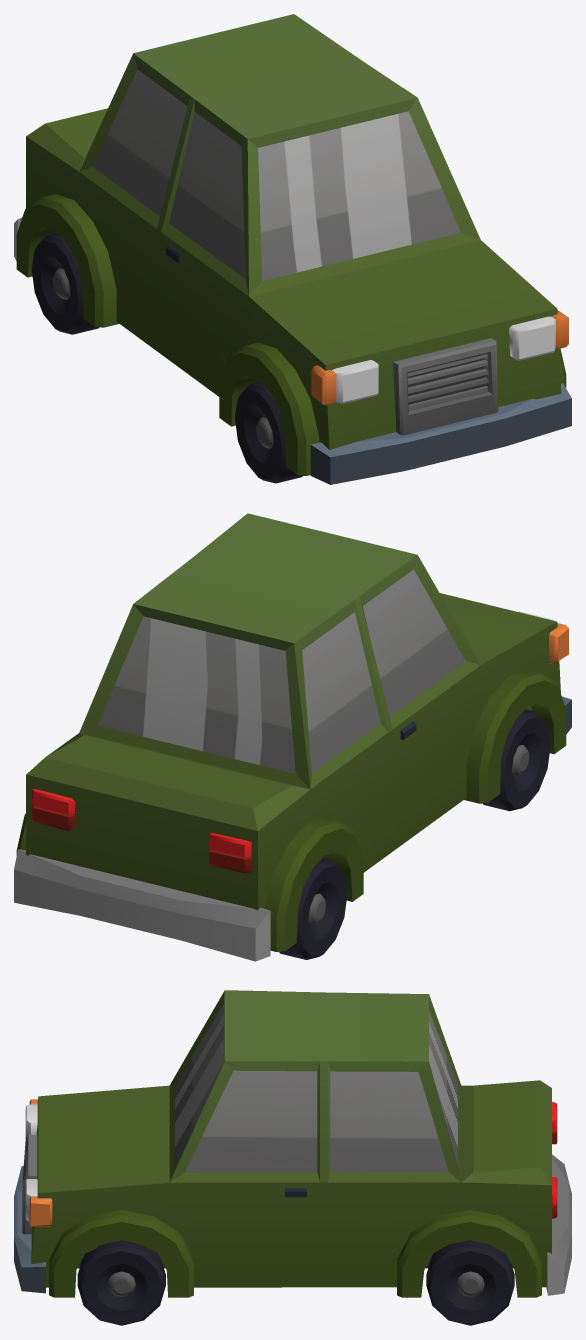
Rendered from Car_2_16.fbx.
The picture shows the model from 3 angles, top to bottom: view 1: azimuth 30°, elevation 25°; view 2: azimuth 150°, elevation 25°; view 3: azimuth 270°, elevation 25°; orthographic projection. The views are drawn at different scales.
Visible parts, largest first — view 1: Car_2_16, W_BR, W_FR; view 2: Car_2_16, W_FR, W_BR; view 3: Car_2_16, W_BL, W_FL.
Boxes of the visible parts, x1=… form: Car_2_16: x1=14, y1=14, x2=571, y2=484; W_BR: x1=31, y1=232, x2=99, y2=334; W_FR: x1=235, y1=381, x2=302, y2=483; Car_2_16: x1=14, y1=513, x2=571, y2=961; W_FR: x1=482, y1=709, x2=550, y2=811; W_BR: x1=279, y1=858, x2=347, y2=959; Car_2_16: x1=14, y1=990, x2=571, y2=1297; W_BL: x1=426, y1=1240, x2=514, y2=1325; W_FL: x1=77, y1=1240, x2=165, y2=1325.
Size of the model in its own units: 109 by 111 by 228.
